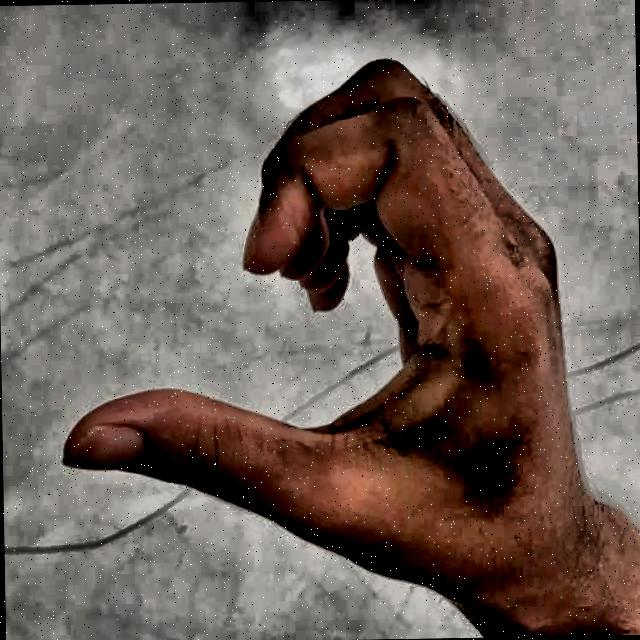Kha: (30, 13, 602, 620)
